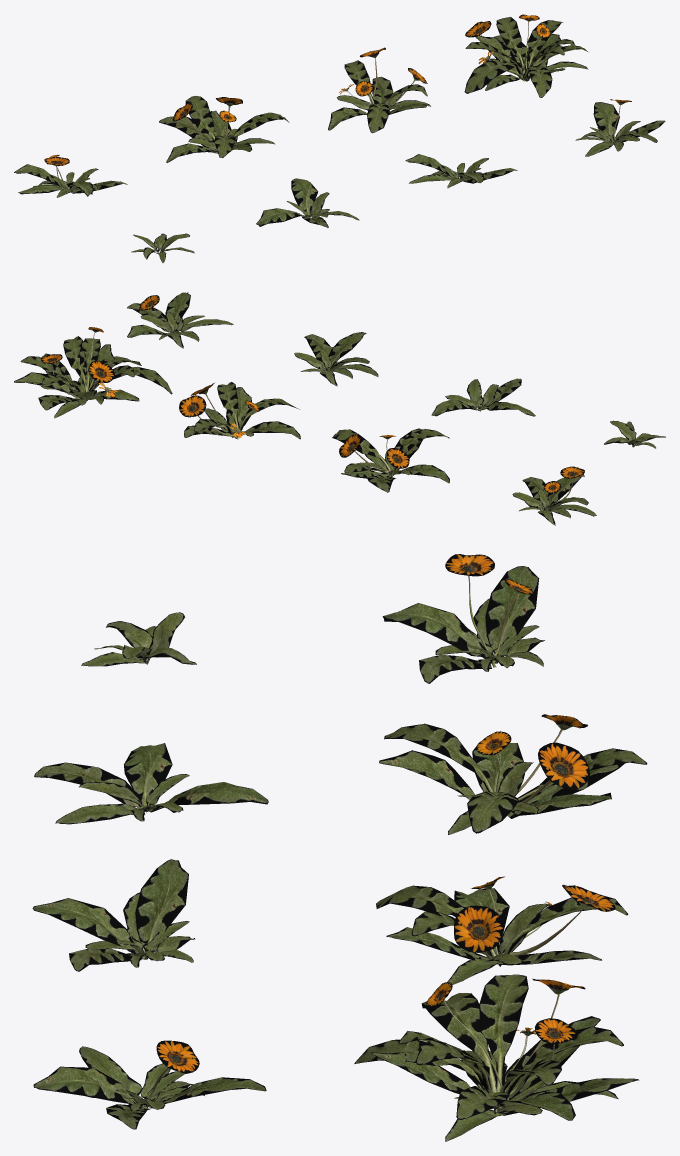
The model's file is flower_gazania.glb.
The picture shows the model from 3 angles, top to bottom: view 1: azimuth 30°, elevation 25°; view 2: azimuth 150°, elevation 25°; view 3: azimuth 270°, elevation 25°; orthographic projection. The views are drawn at different scales.
Parts seen in each view (by area): view 1: flower_gazania_a_LOD0; view 2: flower_gazania_a_LOD0; view 3: flower_gazania_a_LOD0.
Boxes of the visible parts, box(x1,y1,x2,y2) form: flower_gazania_a_LOD0: box(14, 14, 665, 262); flower_gazania_a_LOD0: box(14, 292, 665, 525); flower_gazania_a_LOD0: box(32, 554, 647, 1141).
Bounding box in the file's own units: 1.48 × 0.1655 × 0.7027.
1 material, 1 textured.
